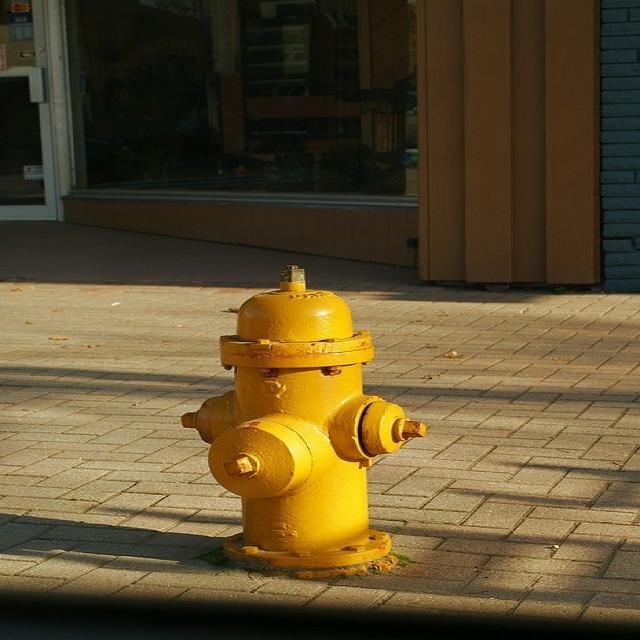fire_hydrant: (185, 283, 409, 580)
